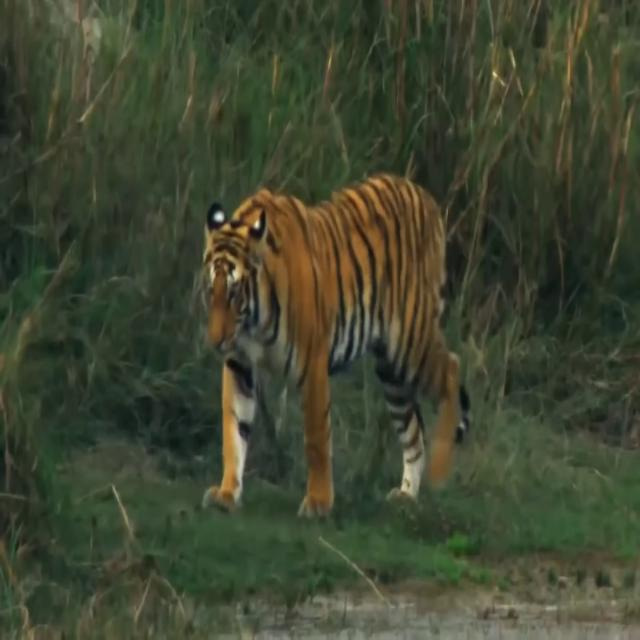tiger: (200, 170, 470, 522)
